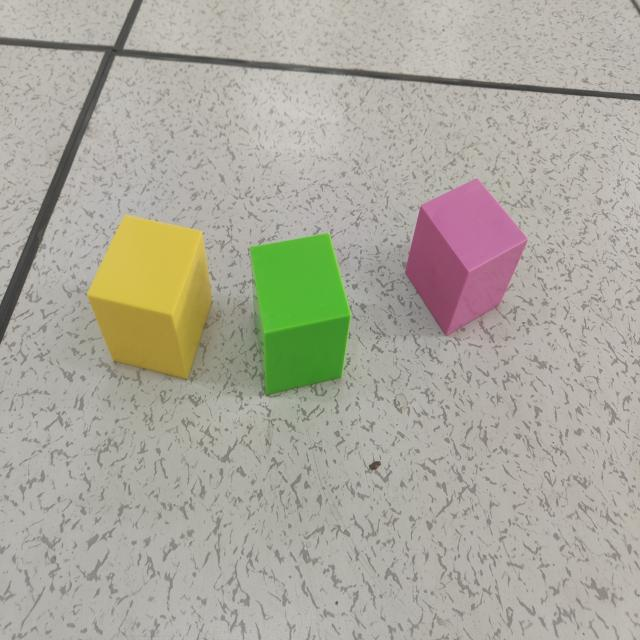green: (248, 234, 351, 397)
pink: (406, 180, 528, 337)
yellow: (87, 216, 213, 382)
